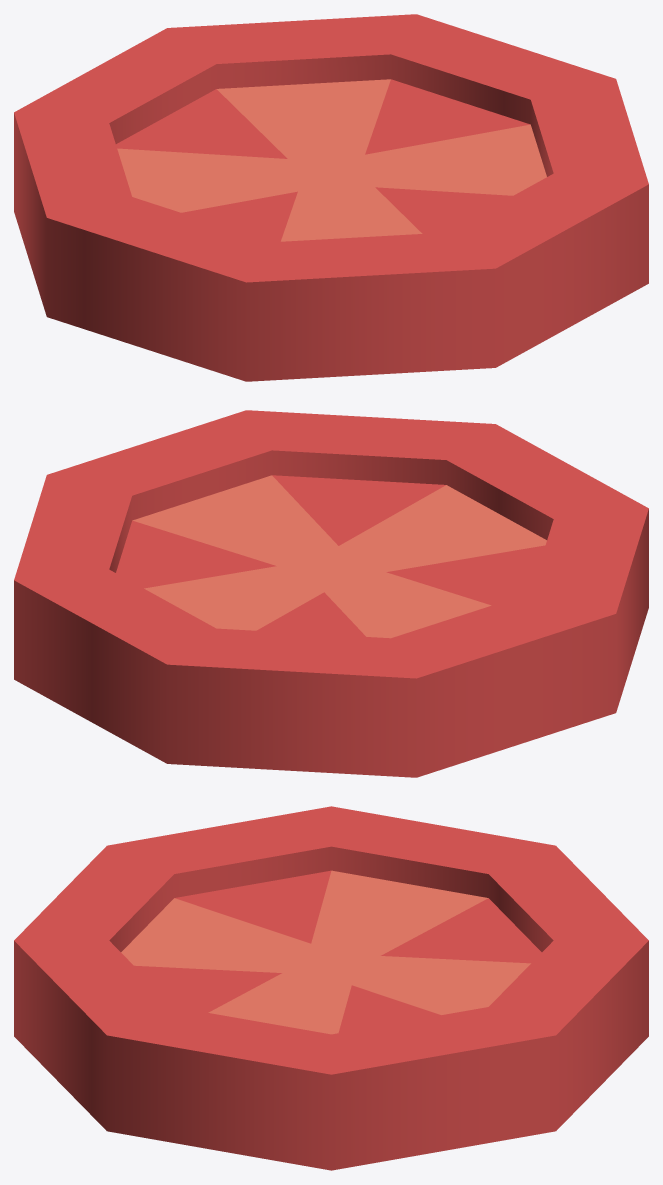
File: tomatoSlice.obj
3 views of the same model, one above another, from view 1: azimuth 30°, elevation 25°; view 2: azimuth 150°, elevation 25°; view 3: azimuth 270°, elevation 25° (orthographic). The views are drawn at different scales.
Parts seen in each view (by area): view 1: tomatoSlice; view 2: tomatoSlice; view 3: tomatoSlice.
Part boxes in pixels (left/top/right/bottom): tomatoSlice: left=14, top=14, right=648, bottom=381; tomatoSlice: left=14, top=410, right=648, bottom=777; tomatoSlice: left=14, top=806, right=648, bottom=1170.
Bounding box in the file's own units: 0.18 × 0.03 × 0.18.
